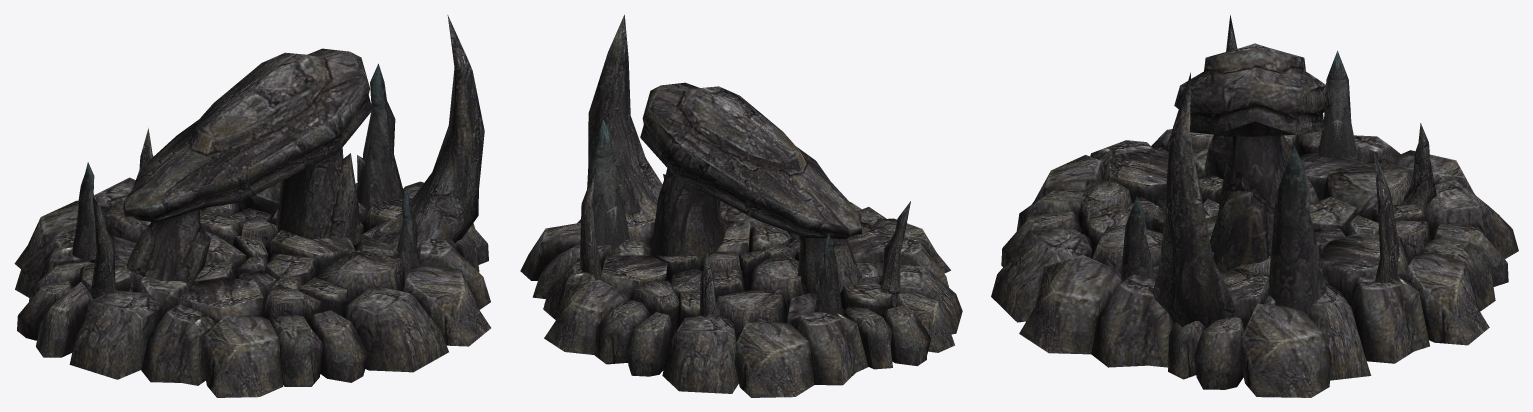
Rendered from stone_grave_001.glb.
The picture shows the model from 3 angles, left to right: view 1: azimuth 30°, elevation 25°; view 2: azimuth 150°, elevation 25°; view 3: azimuth 270°, elevation 25°; orthographic projection. The views are drawn at different scales.
Visible parts, largest first — view 1: stone_grave_001; view 2: stone_grave_001; view 3: stone_grave_001.
Boxes of the visible parts, bbox=[...] form: stone_grave_001: bbox=[14, 15, 490, 397]; stone_grave_001: bbox=[520, 14, 962, 397]; stone_grave_001: bbox=[991, 15, 1518, 397].
Bounding box in the file's own units: 8.25 × 4.61 × 7.54.
3 materials, 3 textured.
